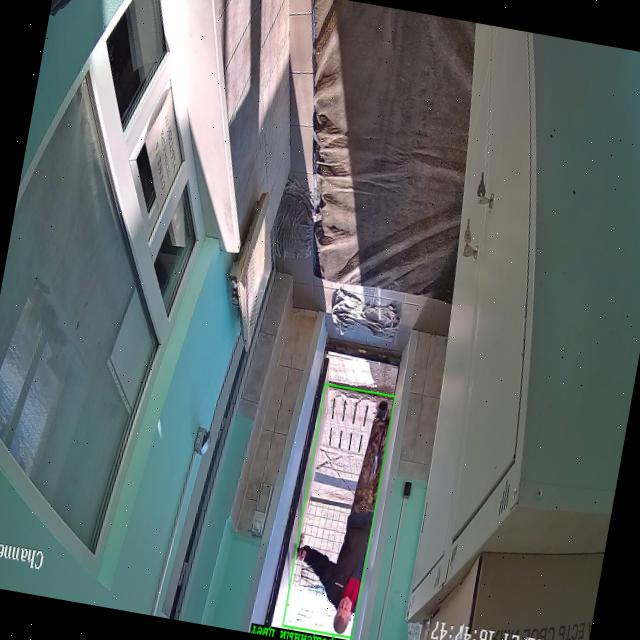Person: (297, 399, 389, 634)
